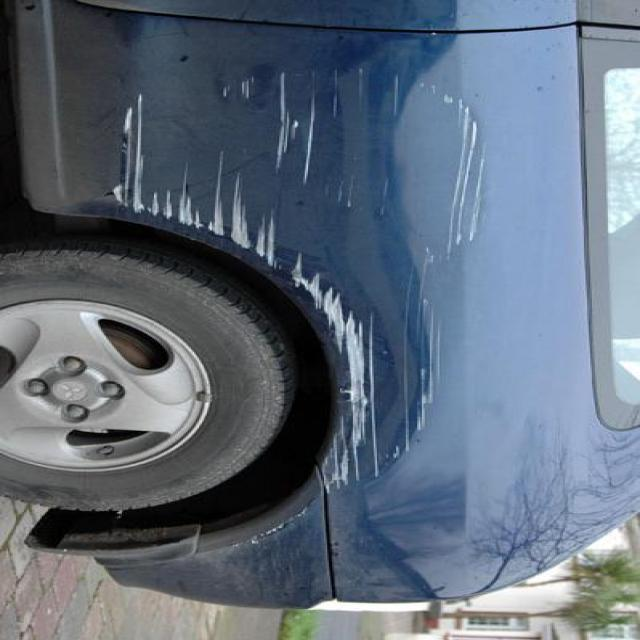scratch: (100, 65, 512, 262), (284, 264, 435, 508)
